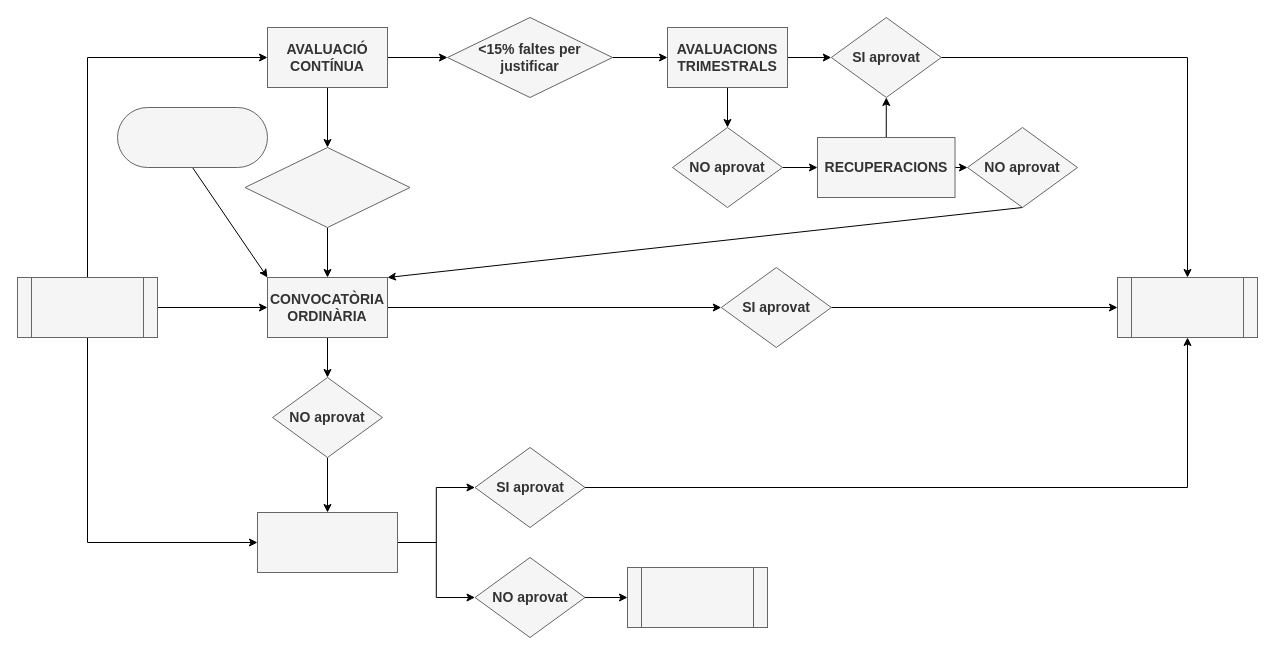
This 1275x655 diagram has some shape labels left out. The shapes that lost their labels are listed below. From the top down, each one's centre as x and y in pixels, then its label:
At (x=192, y=137): "ALUMNAT QUE TENEN ALGUNA COSA PENDENT".
At (x=327, y=187): ">15% faltes per justificar".
At (x=87, y=307): "ESTUDIANT".
At (x=1187, y=307): "MÒDUL SUPERAT".
At (x=327, y=542): "CONVOCATÒRIA EXTRAORDINÀRIA".
At (x=697, y=597): "REPETEIX EL MÒDUL".
